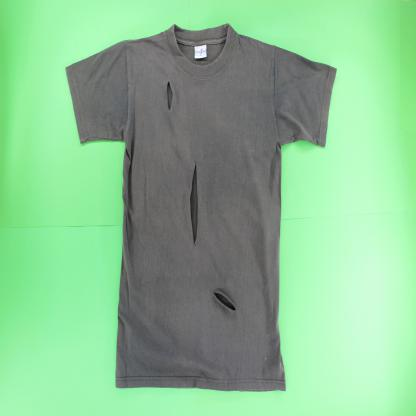hole: (187, 159, 200, 247), (211, 290, 238, 316), (166, 79, 175, 112)
